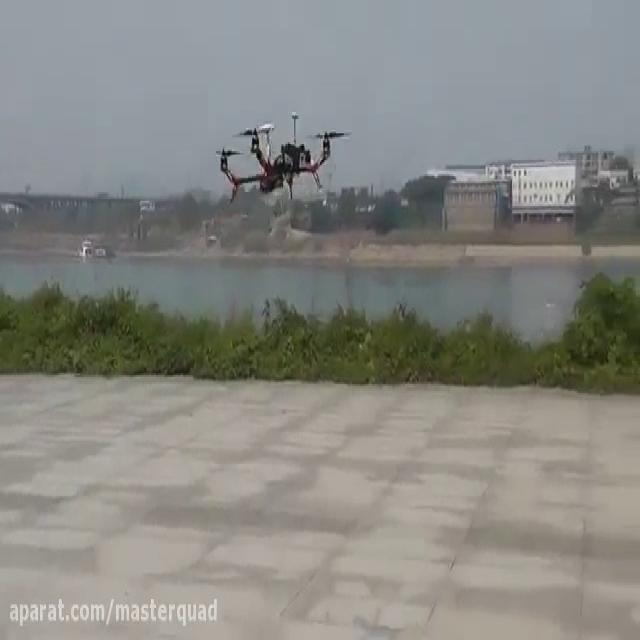drone: (210, 105, 355, 211)
